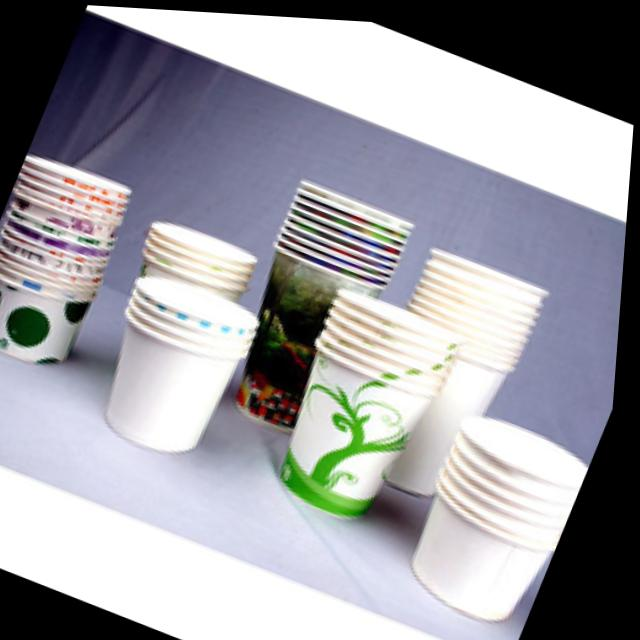paper_cups: (213, 163, 427, 446), (346, 233, 556, 508), (264, 272, 471, 533), (399, 395, 604, 637), (81, 255, 272, 470), (0, 143, 146, 378), (134, 214, 268, 312)
